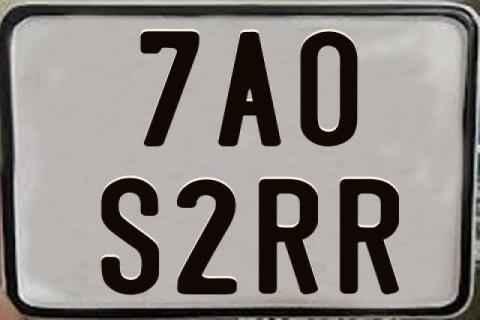0: (137, 31, 201, 149), (299, 29, 361, 149), (176, 177, 240, 293)
A: (217, 31, 285, 148)
R: (257, 178, 322, 296), (337, 179, 402, 296)
S: (98, 177, 157, 299)
